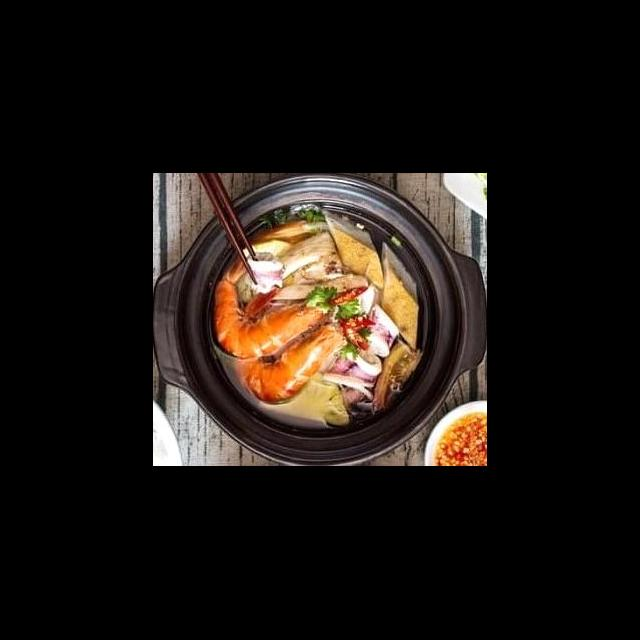muc: (322, 347, 383, 408), (360, 302, 402, 359), (242, 256, 287, 296)
tom: (210, 250, 338, 364), (230, 314, 351, 406)
